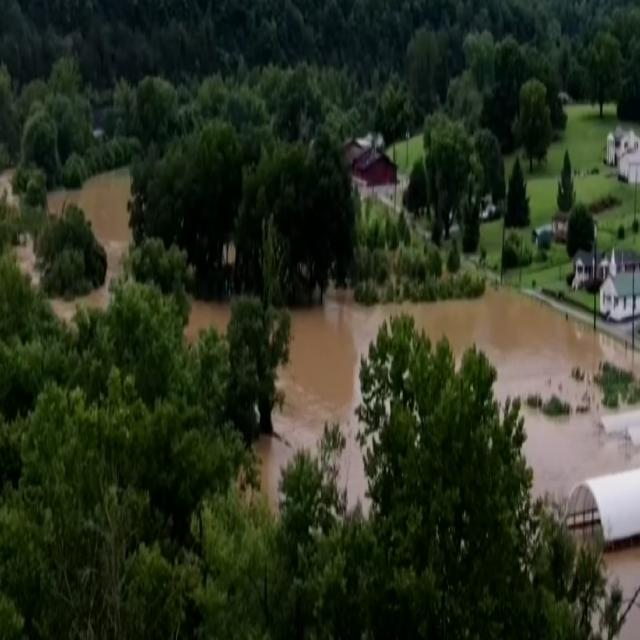flood: (257, 288, 640, 504), (48, 168, 130, 318), (607, 547, 640, 598), (187, 301, 229, 338), (623, 608, 640, 640), (17, 245, 32, 272)
house: (345, 130, 401, 240), (580, 250, 638, 328), (609, 123, 640, 191)
